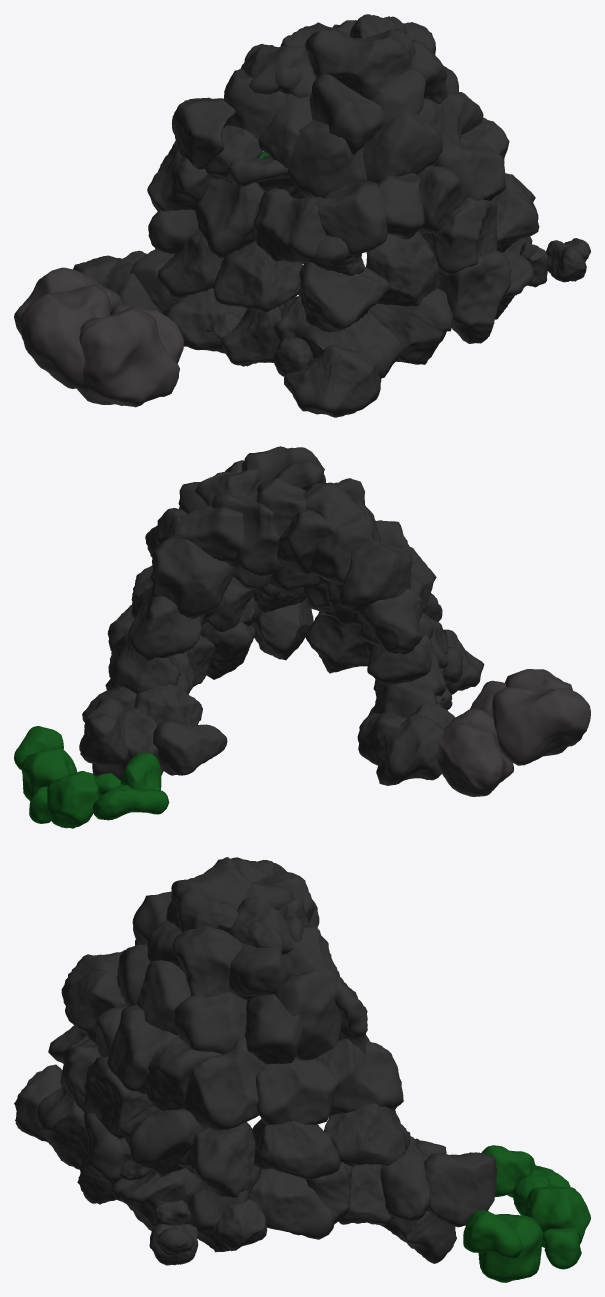
Rendered from 3D-cave-model.fbx.
3 renders of one model, top to bottom at view 1: azimuth 30°, elevation 25°; view 2: azimuth 150°, elevation 25°; view 3: azimuth 270°, elevation 25°, orthographic. The views are drawn at different scales.
Parts seen in each view (by area): view 1: rock, rock.013; view 2: rock, rock.013, rock.014; view 3: rock, rock.014.
Part boxes in pixels (x1,y1,x2,y2): rock: (73, 14, 590, 417); rock.013: (14, 267, 183, 407); rock: (79, 446, 484, 785); rock.013: (437, 669, 590, 796); rock.014: (14, 726, 169, 828); rock: (14, 857, 497, 1265); rock.014: (463, 1145, 590, 1282).
Bounding box in the file's own units: 859 × 492 × 758.
